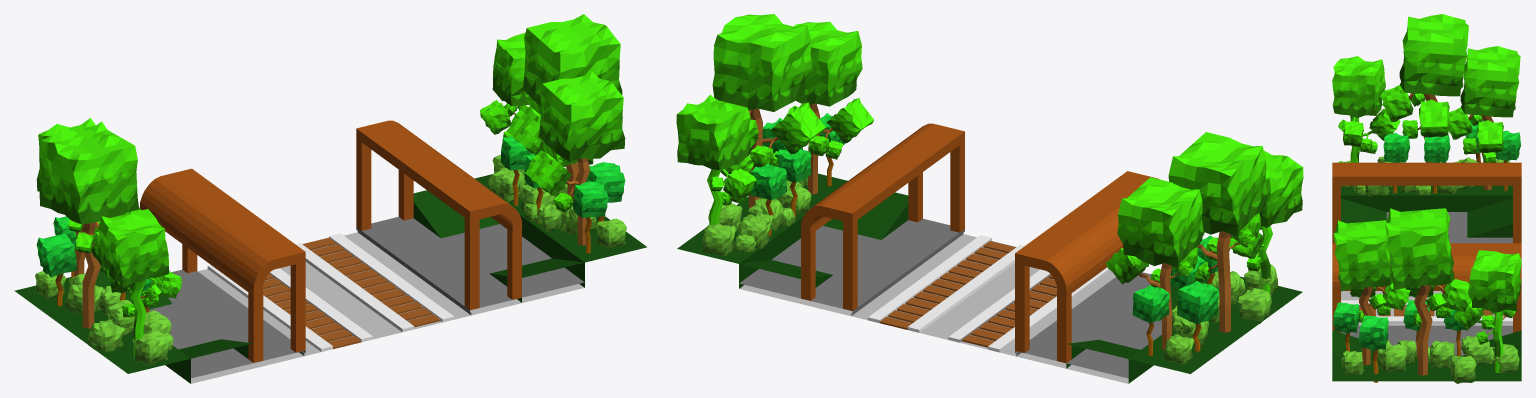
The model's file is Gare_a_repetition (1).fbx.
3 renders of one model, left to right at view 1: azimuth 30°, elevation 25°; view 2: azimuth 150°, elevation 25°; view 3: azimuth 270°, elevation 25°, orthographic. The views are drawn at different scales.
Visible parts, largest first — view 1: arbre_011, abris_gare, pierre_quai004, rail003, sol_terre003, Buisson_073, sol_rail001, arbuste_013; view 2: arbre_011, abris_gare, pierre_quai004, rail003, sol_terre003, Buisson_073, arbuste_013, sol_rail001; view 3: arbre_011, sol_terre003, abris_gare, Buisson_073, arbuste_013, pierre_quai004, rail003, sol_rail001.
Boxes of the visible parts, x1,y1,x2,y2 form: arbre_011: [36, 14, 625, 358]; abris_gare: [139, 120, 522, 362]; pierre_quai004: [149, 217, 584, 378]; rail003: [207, 233, 454, 351]; sol_terre003: [14, 174, 646, 383]; Buisson_073: [35, 154, 626, 365]; sol_rail001: [191, 232, 584, 383]; arbuste_013: [36, 135, 625, 312]; arbre_011: [676, 14, 1303, 350]; abris_gare: [801, 123, 1159, 363]; pierre_quai004: [739, 218, 1161, 378]; rail003: [868, 235, 1110, 352]; sol_terre003: [677, 173, 1302, 383]; Buisson_073: [702, 177, 1277, 364]; arbuste_013: [750, 113, 1218, 356]; sol_rail001: [739, 234, 1128, 383]; arbre_011: [1332, 14, 1521, 375]; sol_terre003: [1332, 185, 1521, 381]; abris_gare: [1332, 162, 1521, 332]; Buisson_073: [1338, 156, 1519, 383]; arbuste_013: [1333, 120, 1521, 382]; pierre_quai004: [1341, 212, 1512, 355]; rail003: [1341, 300, 1512, 323]; sol_rail001: [1341, 291, 1512, 325].
Bounding box in the file's own units: 8252 × 3063 × 3001.
10 materials, 9 textured.
